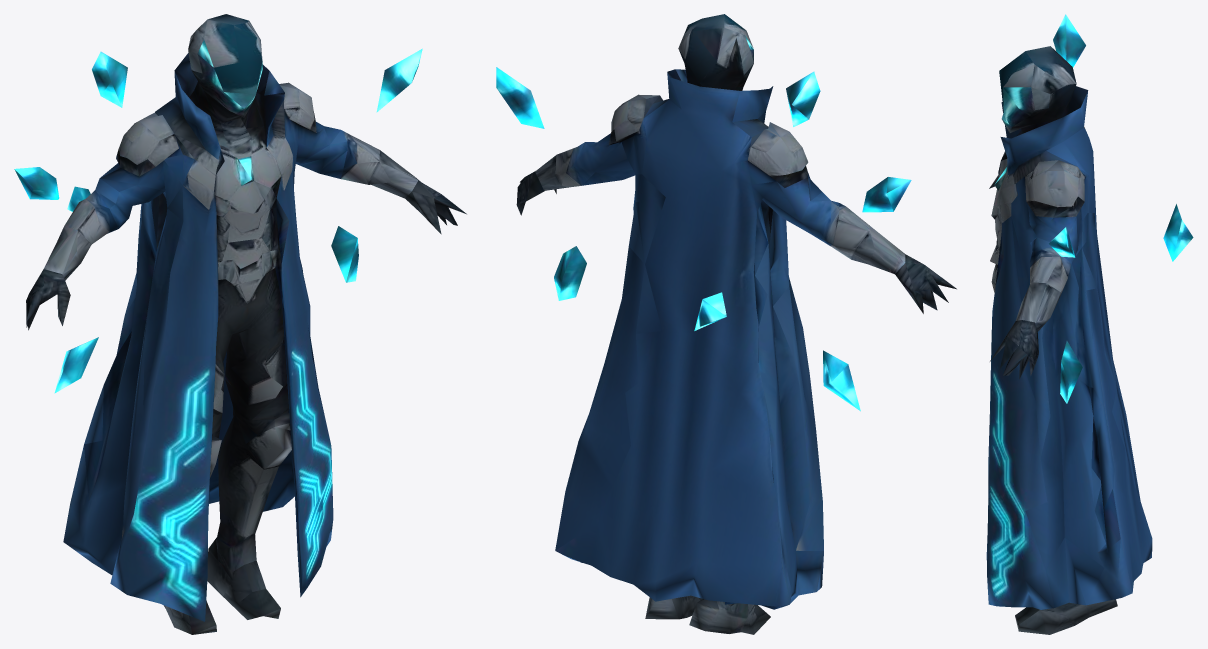
The model's file is unit_psion.glb.
The picture shows the model from 3 angles, left to right: view 1: azimuth 30°, elevation 25°; view 2: azimuth 150°, elevation 25°; view 3: azimuth 270°, elevation 25°; orthographic projection. The views are drawn at different scales.
Visible parts, largest first — view 1: unit_psion; view 2: unit_psion; view 3: unit_psion.
Boxes of the visible parts, x1=… form: unit_psion: x1=14, y1=14, x2=466, y2=634; unit_psion: x1=496, y1=14, x2=956, y2=634; unit_psion: x1=986, y1=14, x2=1193, y2=634.
Bounding box in the file's own units: 0.7648 × 1 × 0.3328.
Materials: 1 (1 with a texture image).
